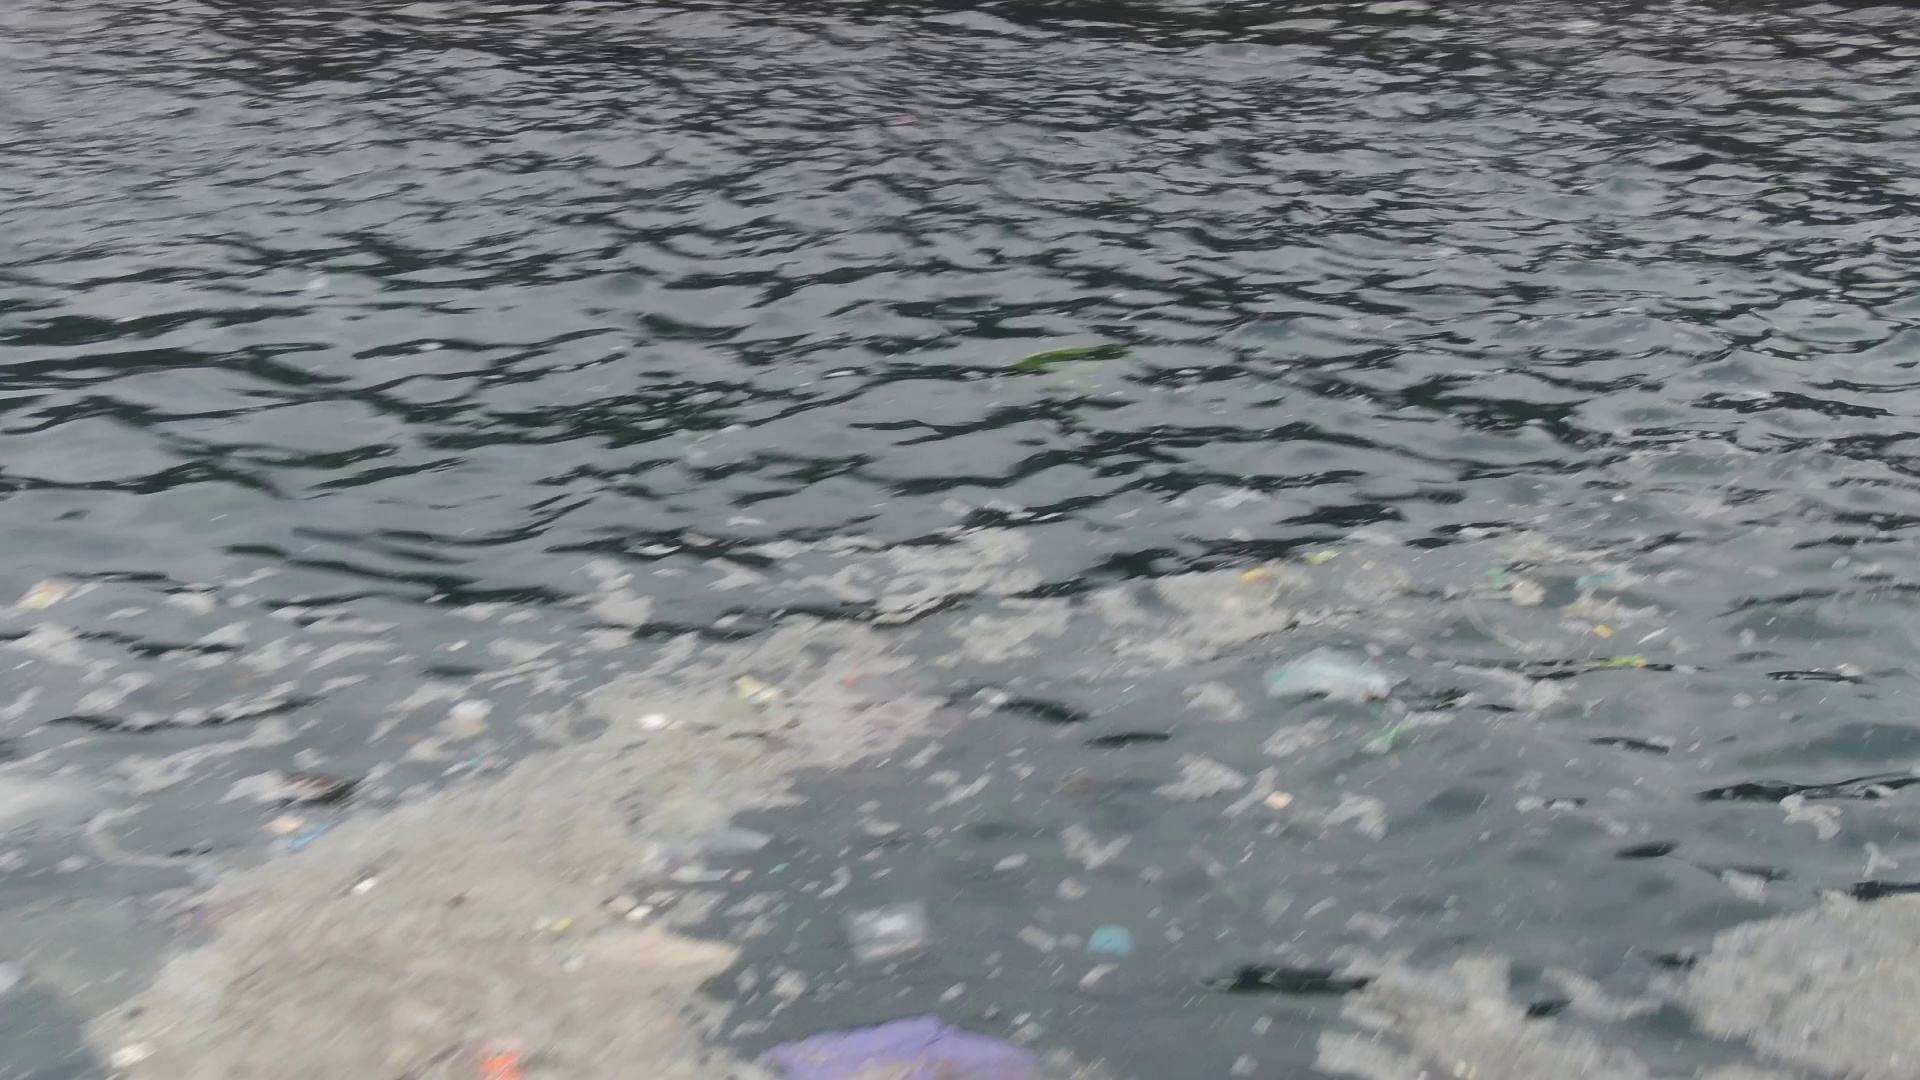garbage: (756, 1021, 1040, 1077), (1501, 563, 1650, 670), (839, 902, 943, 969), (1271, 647, 1398, 702), (276, 771, 345, 847), (1095, 919, 1135, 963), (21, 582, 75, 607)
